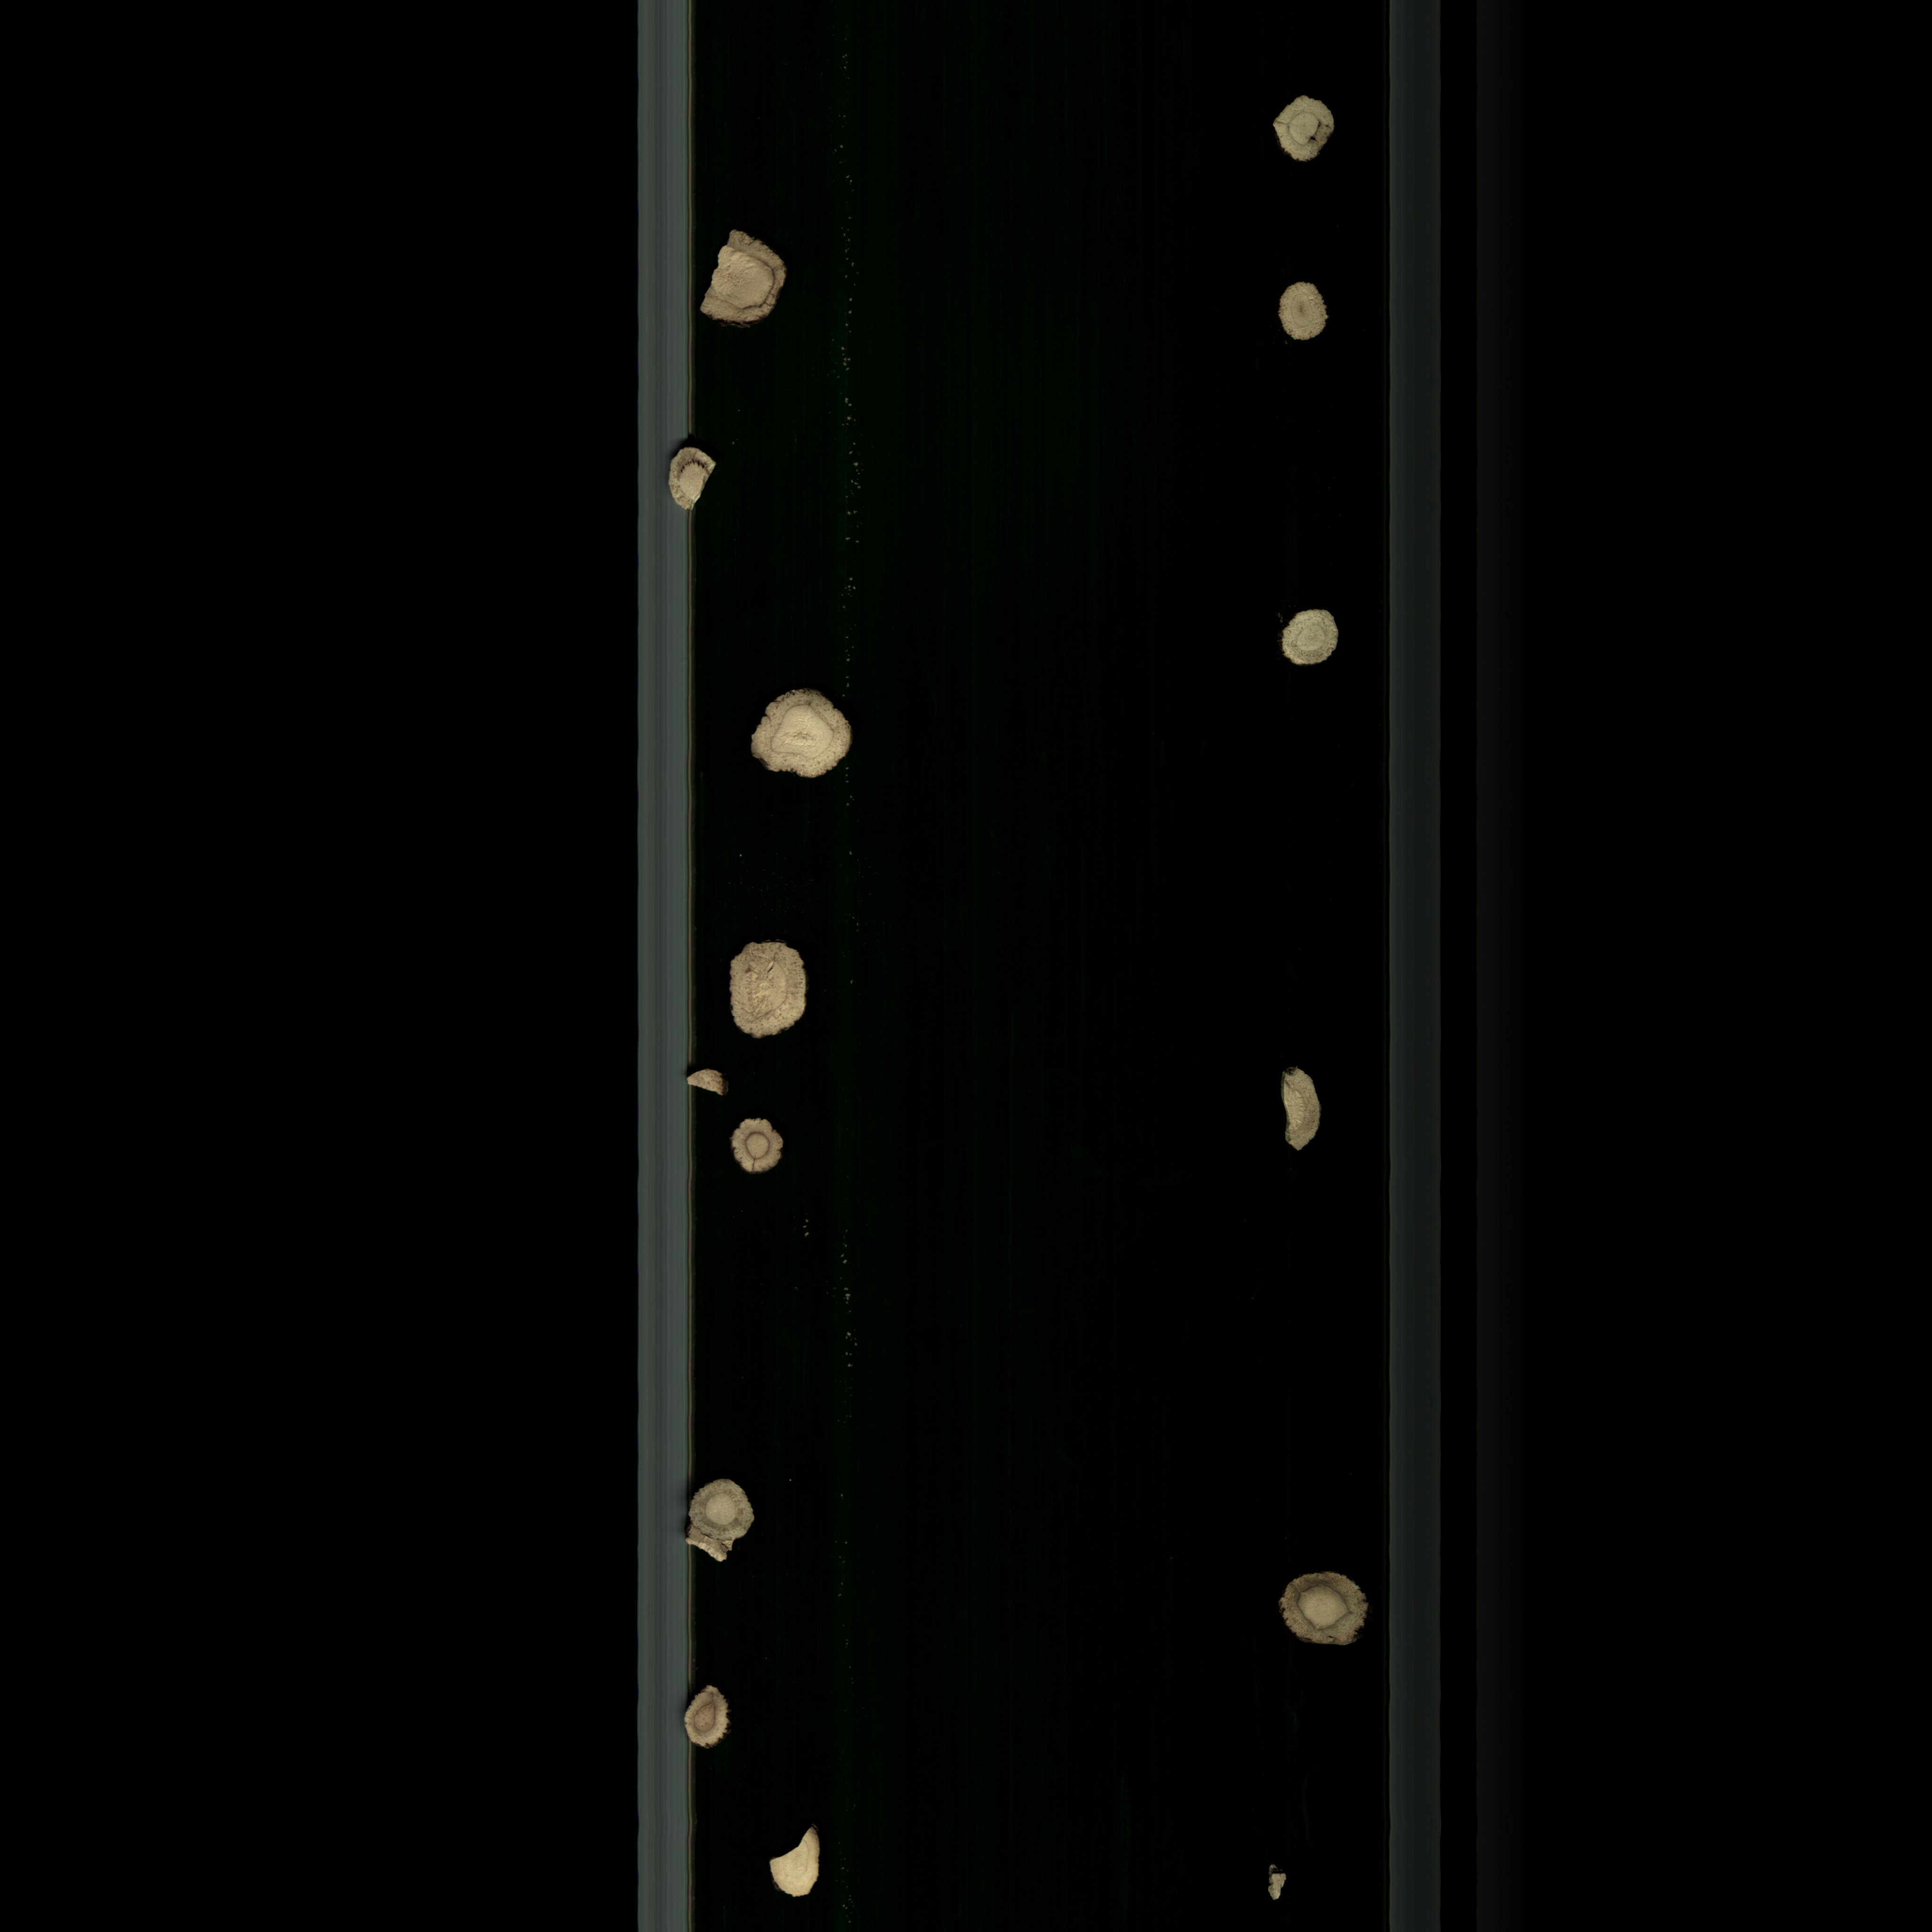debris: (750, 1822, 835, 1905), (662, 435, 734, 533), (1269, 1056, 1332, 1166)
distortion: (734, 683, 872, 791), (717, 936, 819, 1053)
dreg: (681, 1525, 738, 1578), (685, 1062, 738, 1109), (1254, 1858, 1299, 1911)
moldy: (701, 218, 789, 350), (1272, 1566, 1376, 1660), (1269, 83, 1345, 184), (683, 1467, 780, 1541), (674, 1679, 736, 1759), (727, 1111, 794, 1184)
